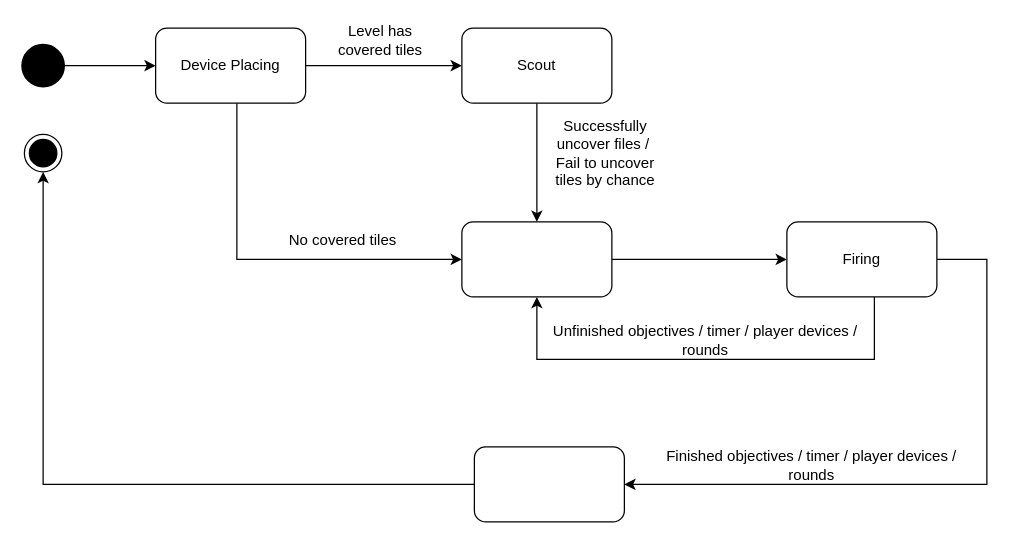
The diagram is 1019 pixels wide and 544 high, and some of its shapes have lost their labels. Here are the shapes that lost their labels. From the top down, the box of each, then its label:
(461, 221, 612, 297): Device adjustment
(473, 446, 624, 522): End
